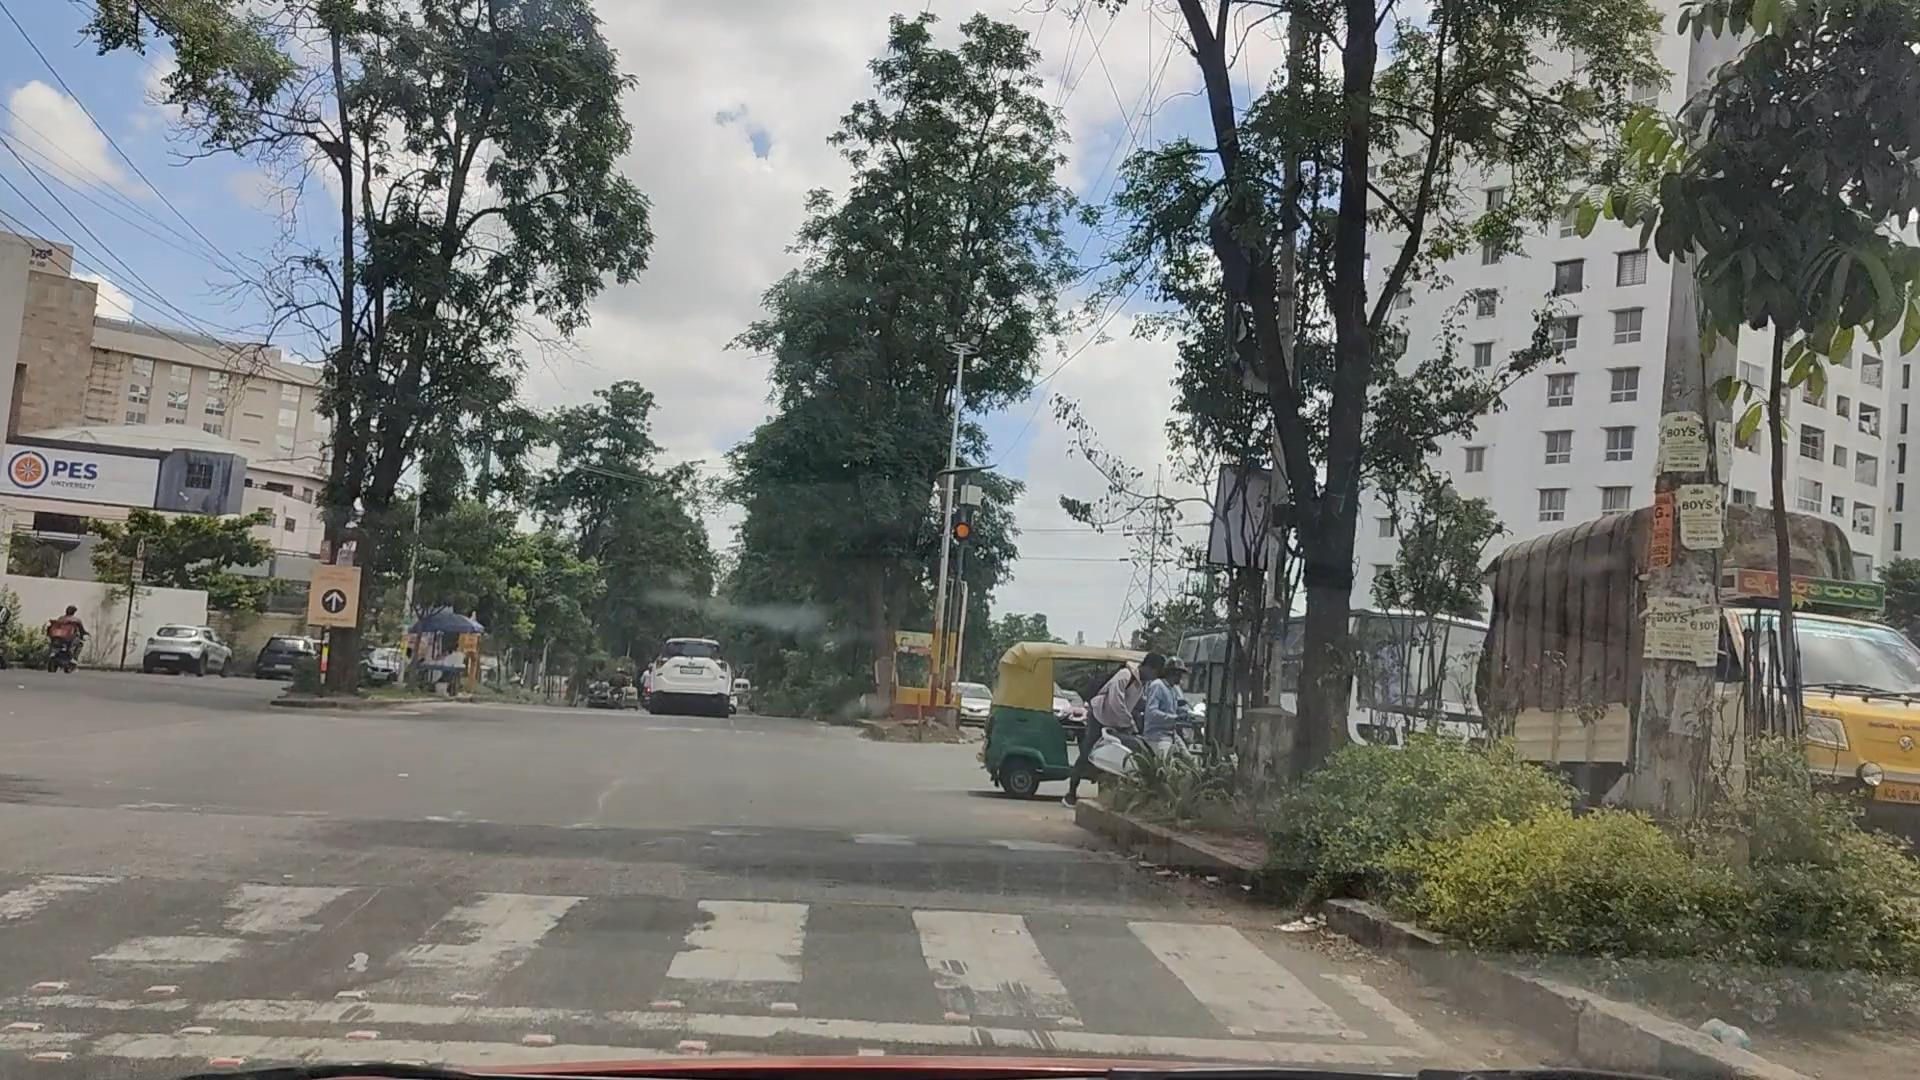SpeedBump: (0, 833, 1282, 994)
